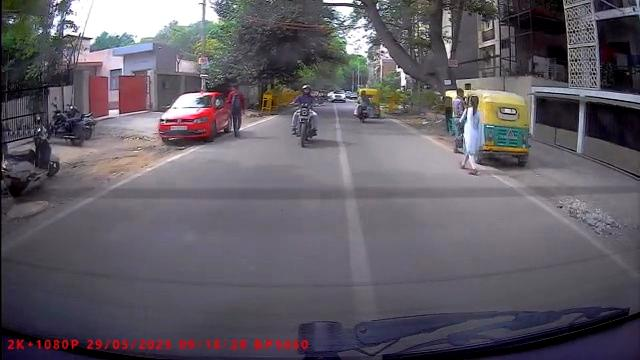motorcycle_with_helmet: (289, 83, 321, 149)
